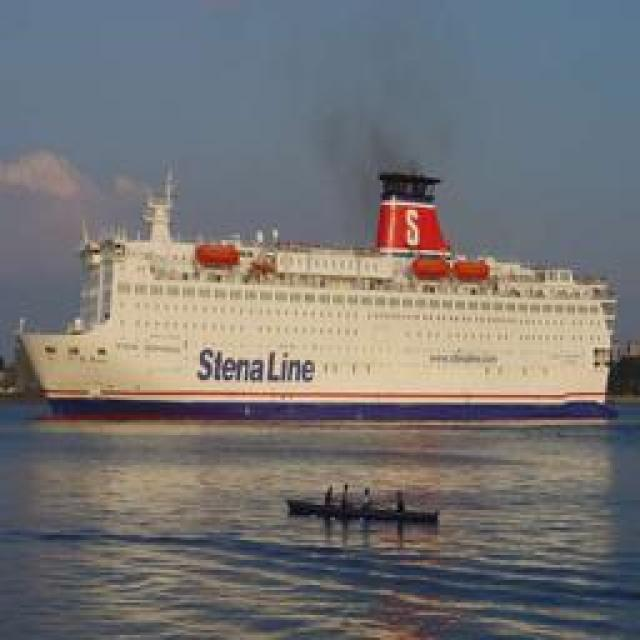CIV_Ship: (16, 166, 624, 414)
